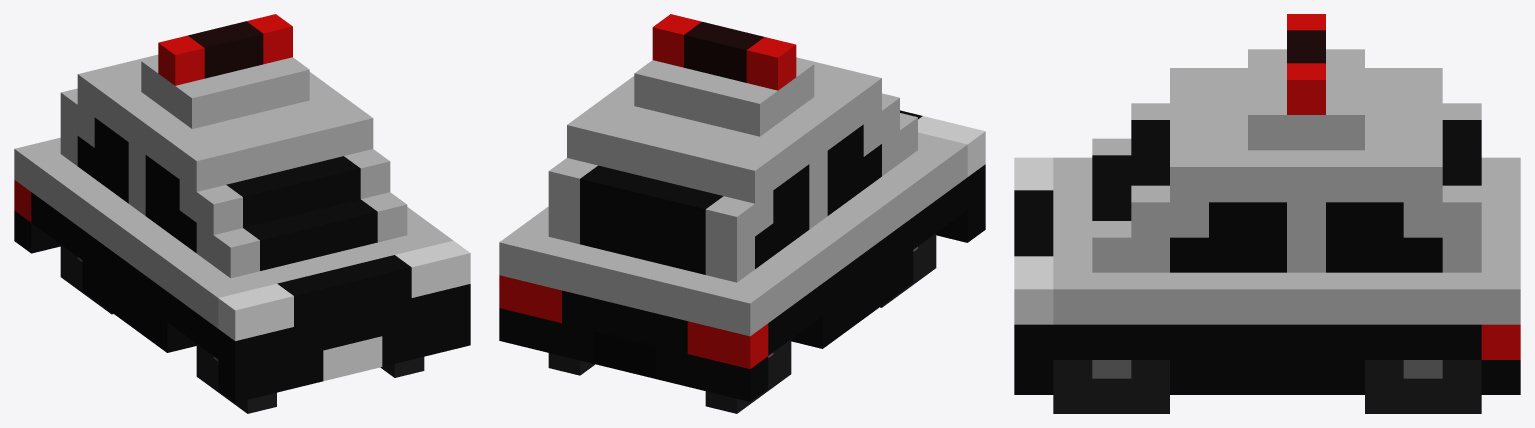
File: Patrol.obj
The picture shows the model from 3 angles, left to right: view 1: azimuth 30°, elevation 25°; view 2: azimuth 150°, elevation 25°; view 3: azimuth 270°, elevation 25°; orthographic projection. The views are drawn at different scales.
Parts seen in each view (by area): view 1: 立方体.013; view 2: 立方体.013; view 3: 立方体.013.
Part boxes in pixels (<box>): 立方体.013: <box>14,14,470,413</box>; 立方体.013: <box>499,14,985,413</box>; 立方体.013: <box>1014,14,1520,413</box>.
Size of the model in its own units: 8 by 9 by 13.
